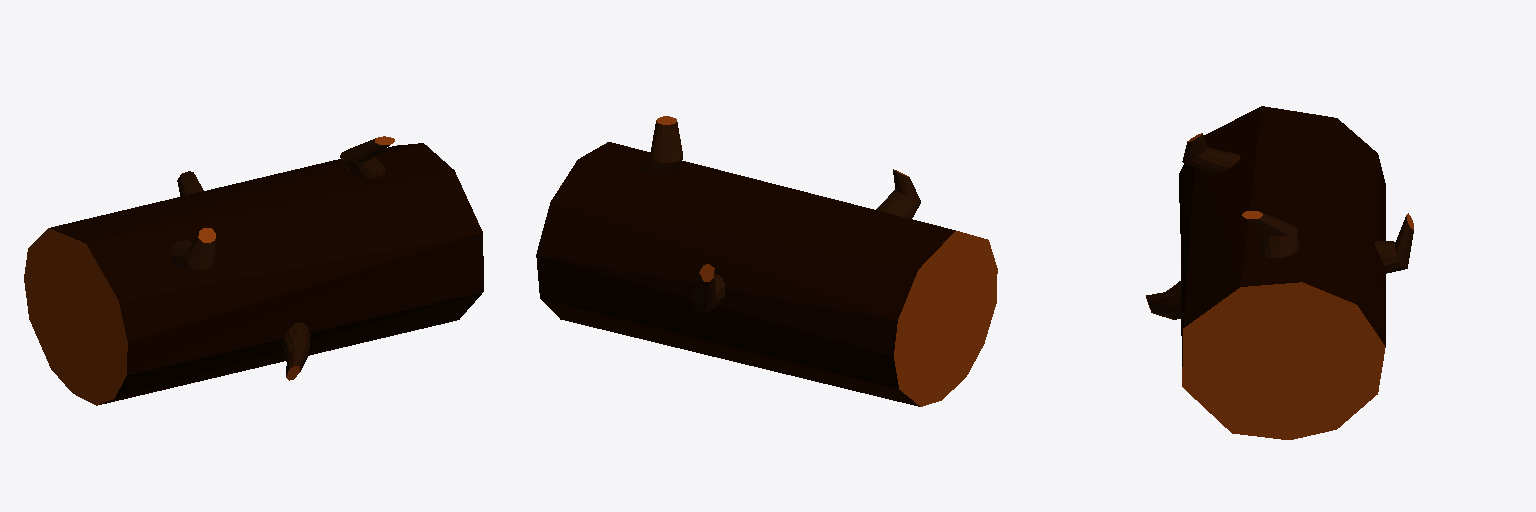
Rendered from rond1_LOD1.obj.
3 renders of one model, left to right at view 1: azimuth 30°, elevation 25°; view 2: azimuth 150°, elevation 25°; view 3: azimuth 270°, elevation 25°, orthographic.
Visible parts, largest first — view 1: Tronc_Cylinder, branches_Cylinder.001; view 2: Tronc_Cylinder, branches_Cylinder.001; view 3: Tronc_Cylinder, branches_Cylinder.001.
Part boxes in pixels (left/top/right/bottom): Tronc_Cylinder: left=24, top=143, right=483, bottom=405; branches_Cylinder.001: left=170, top=136, right=394, bottom=380; Tronc_Cylinder: left=536, top=142, right=997, bottom=406; branches_Cylinder.001: left=639, top=116, right=920, bottom=312; Tronc_Cylinder: left=1179, top=106, right=1385, bottom=439; branches_Cylinder.001: left=1146, top=133, right=1413, bottom=319.
Bounding box in the file's own units: 3.96 × 2.05 × 2.58.